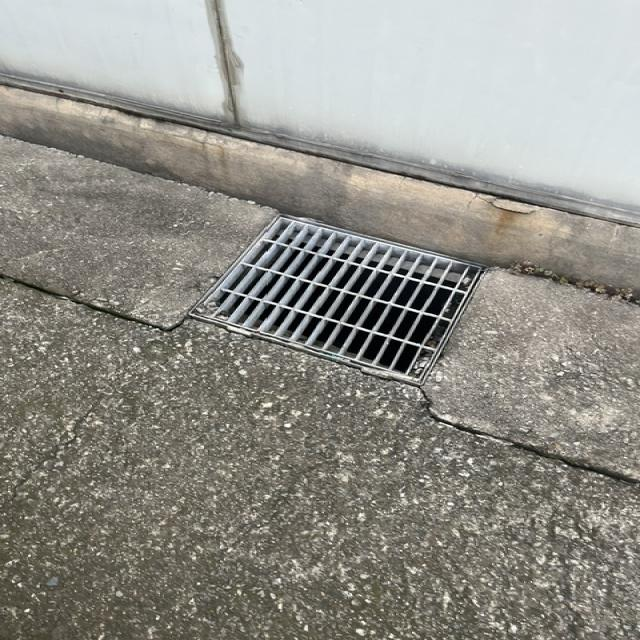drain_area: (209, 218, 471, 375)
drain_full: (190, 216, 484, 384)
